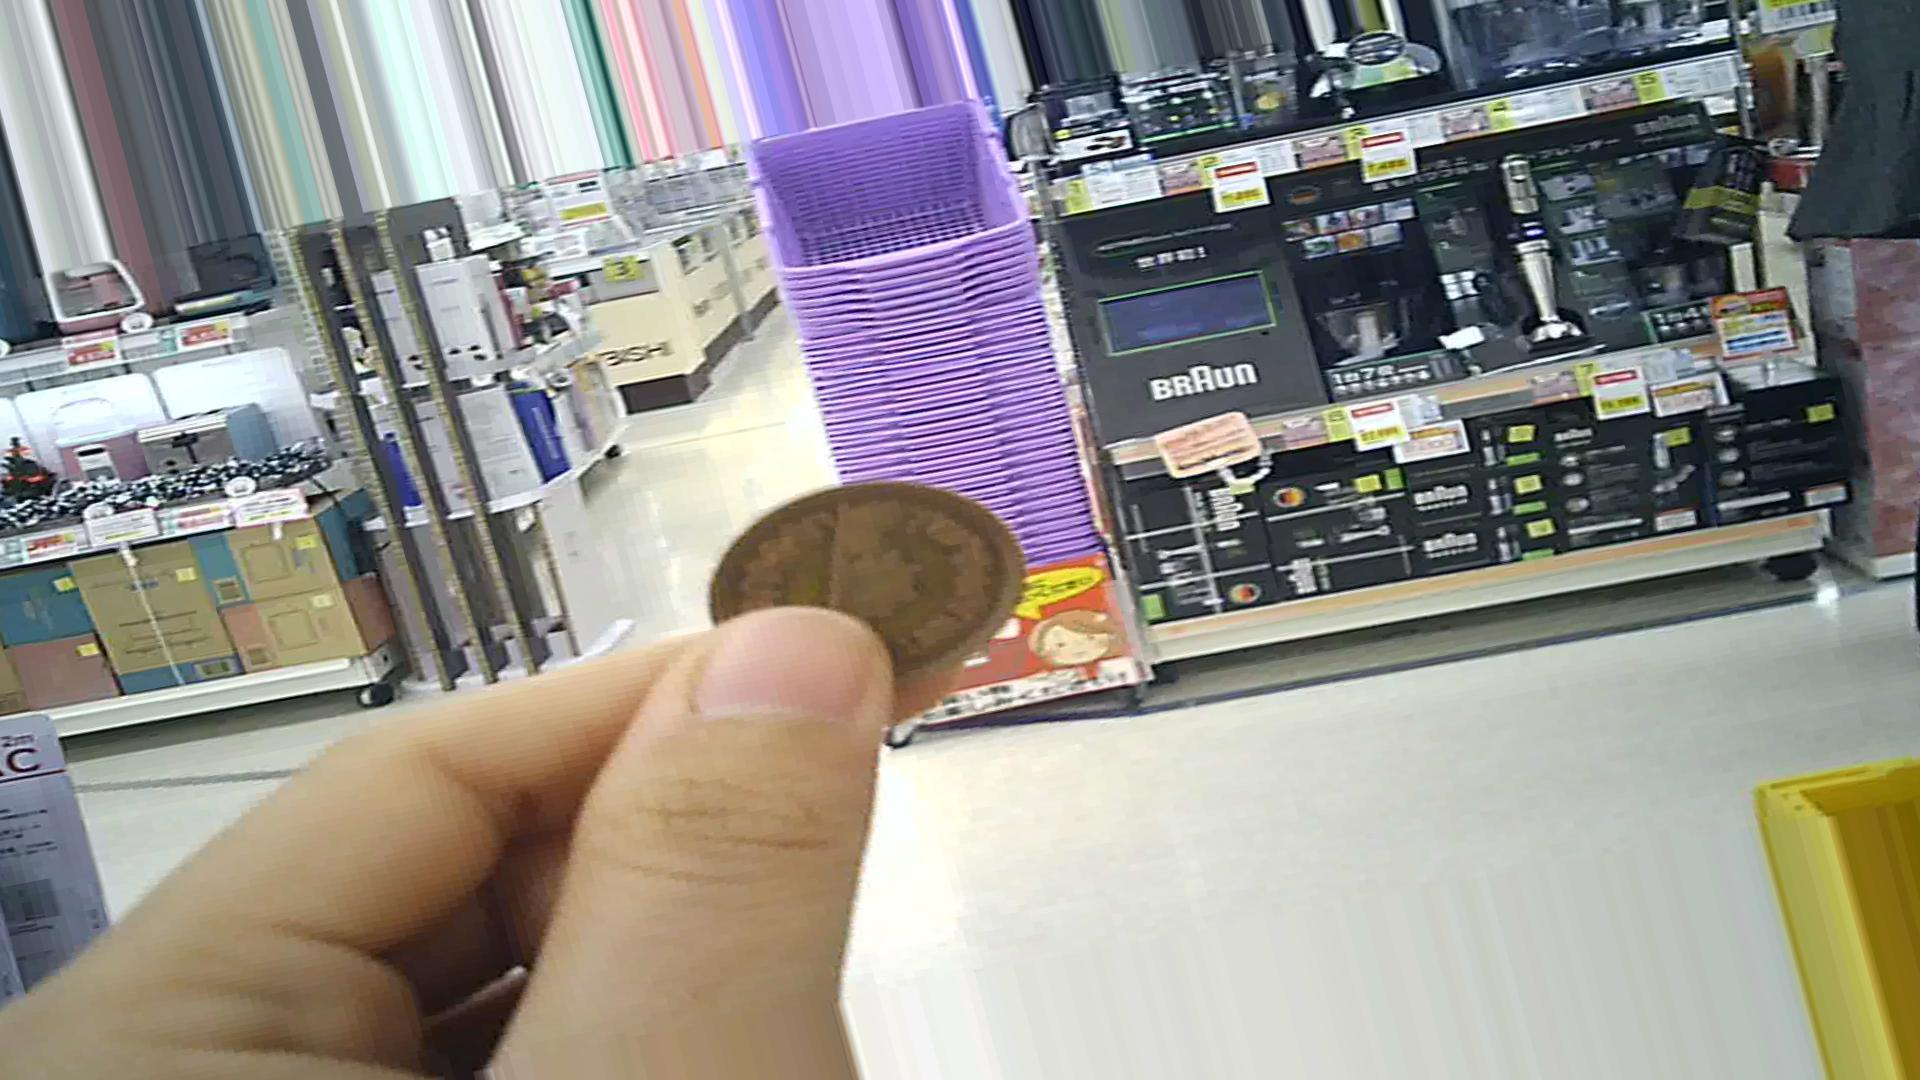10 Yen: (705, 485, 1033, 687)
